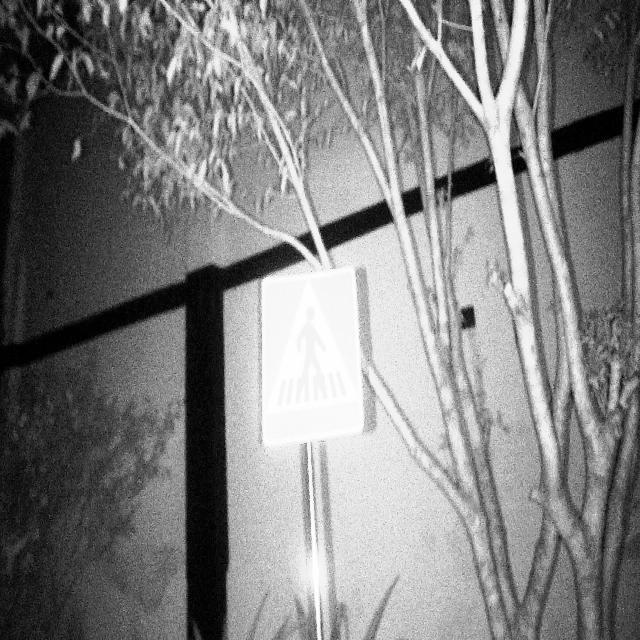Sign: (259, 263, 366, 453)
